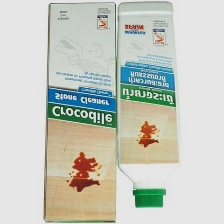book: (41, 0, 119, 222)
cleaning_solution: (115, 0, 186, 213)
